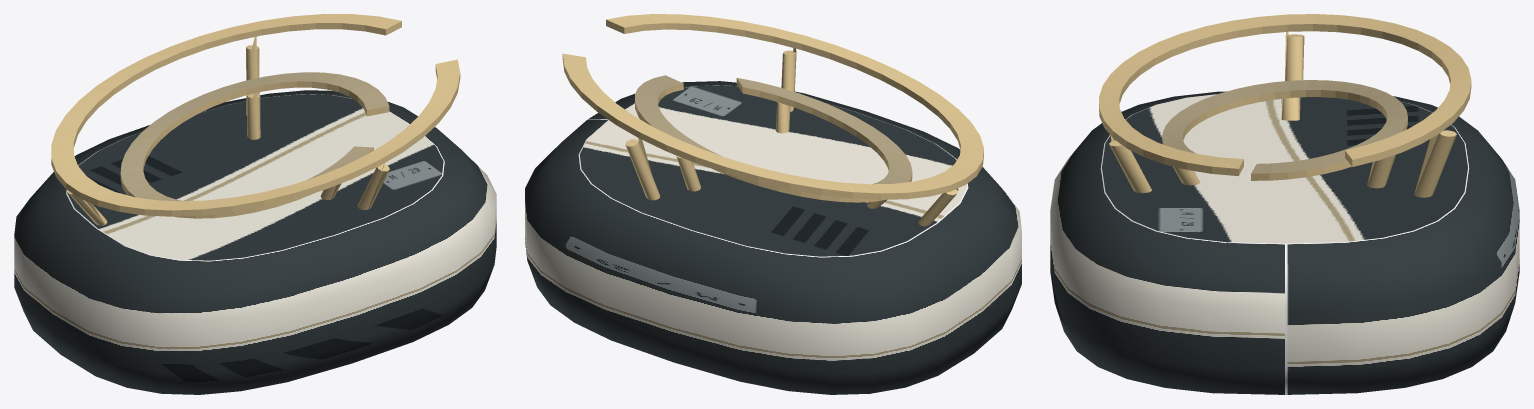
Rendered from MotorCowl_29_UR_象牙・淡金環.glb.
The picture shows the model from 3 angles, left to right: view 1: azimuth 30°, elevation 25°; view 2: azimuth 150°, elevation 25°; view 3: azimuth 270°, elevation 25°; orthographic projection. The views are drawn at different scales.
Visible parts, largest first — view 1: MotorCowl_29_UR; view 2: MotorCowl_29_UR; view 3: MotorCowl_29_UR.
Boxes of the visible parts, x1,y1,x2,y2 form: MotorCowl_29_UR: (14, 14, 496, 394); MotorCowl_29_UR: (525, 14, 1021, 394); MotorCowl_29_UR: (1050, 14, 1519, 394).
Size of the model in its own units: 0.332 by 0.1818 by 0.286.
Materials: 2 (2 with a texture image).
